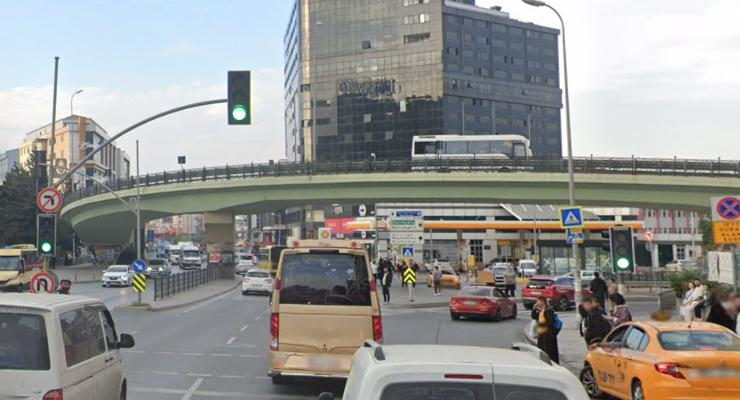greenlight: (227, 70, 252, 126), (611, 226, 634, 274), (37, 214, 56, 257)
leftturnsareforbidden: (37, 188, 62, 213), (644, 230, 654, 242)
